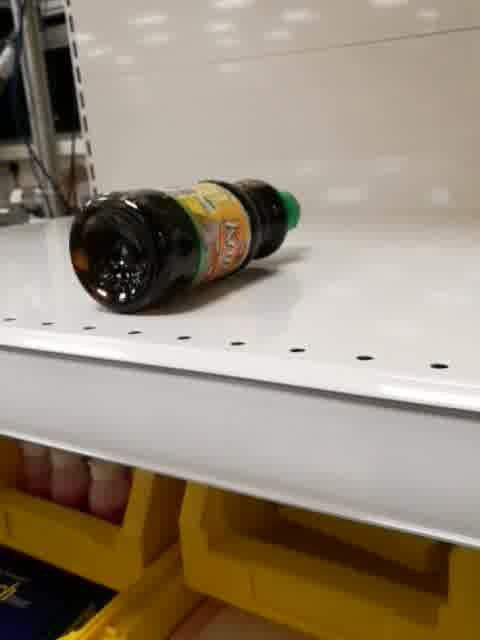cookingoil: (64, 175, 303, 319)
